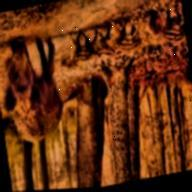boar: (0, 22, 68, 154), (55, 21, 97, 82), (148, 4, 187, 50), (99, 21, 141, 59), (83, 33, 99, 62)
